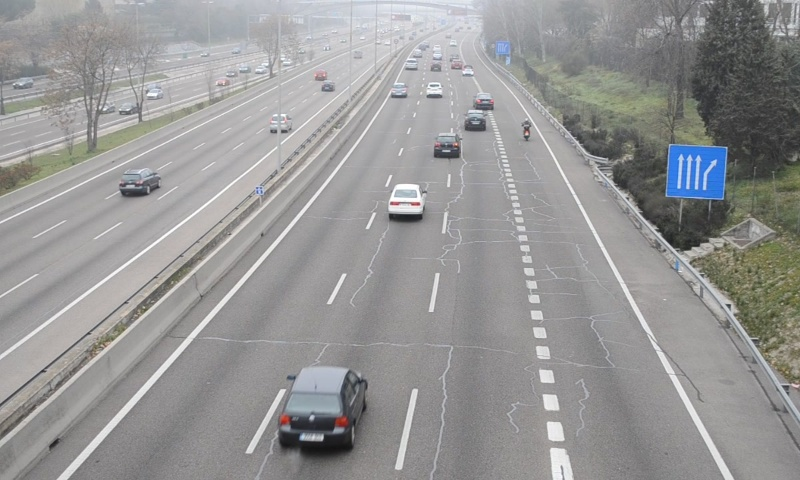car: (278, 366, 366, 448), (389, 183, 426, 216), (434, 132, 461, 158), (464, 110, 486, 131), (474, 92, 496, 108), (426, 81, 444, 97), (390, 82, 407, 98)
motorcycle: (522, 118, 534, 140)
